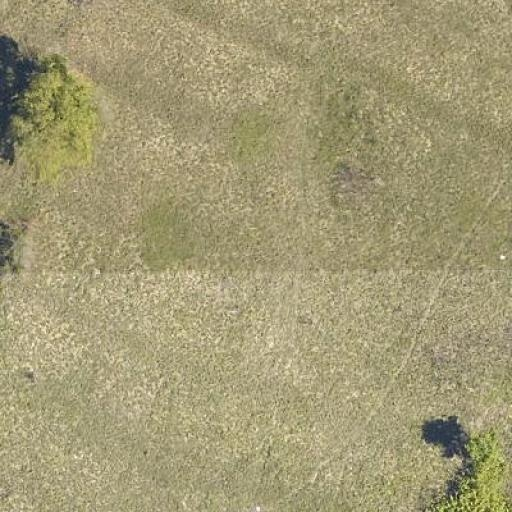tree-top: (2, 50, 108, 182), (424, 428, 504, 510), (0, 210, 39, 276)
